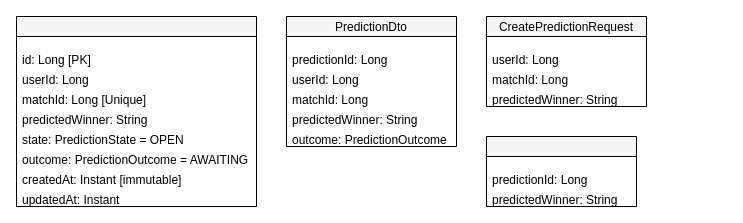
This 743x223 diagram has some shape labels left out. Here are the shapes that lost their labels. From the top down, the box of each, then its label:
(16, 16, 256, 206): PredictionEntity
(486, 136, 636, 206): UpdatePredictionRequest
